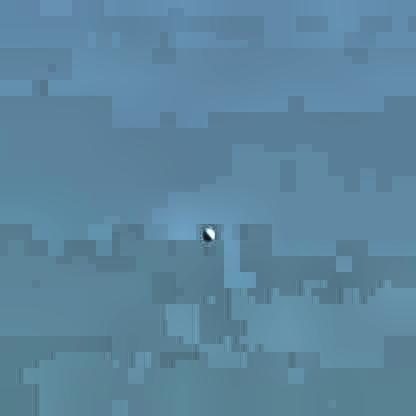golfball: (200, 225, 213, 241)
